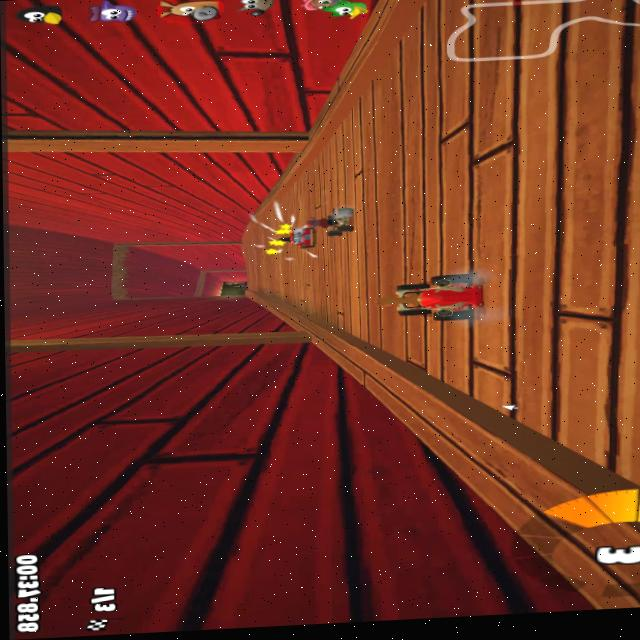player_kart: (379, 272, 498, 326), (306, 202, 366, 239)
track: (402, 0, 640, 273), (504, 263, 640, 436), (354, 63, 406, 278), (410, 320, 508, 371), (315, 238, 351, 323), (306, 145, 349, 205), (453, 368, 507, 401), (243, 247, 282, 290), (285, 250, 312, 303), (354, 281, 371, 350), (321, 118, 350, 146), (253, 218, 280, 247), (268, 194, 297, 218), (281, 176, 308, 194)
